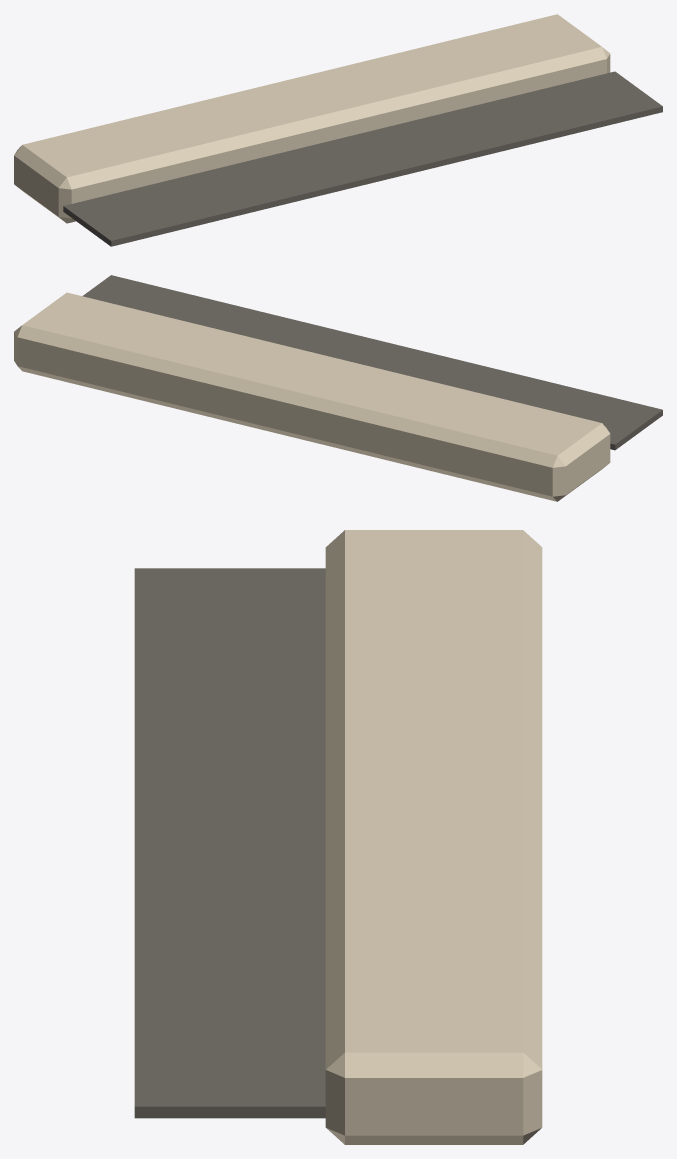
Rendered from street_kerb.glb.
3 renders of one model, top to bottom at view 1: azimuth 30°, elevation 25°; view 2: azimuth 150°, elevation 25°; view 3: azimuth 270°, elevation 25°, orthographic. The views are drawn at different scales.
Visible parts, largest first — view 1: kerb; view 2: kerb; view 3: kerb.
Boxes of the visible parts, box(x1,y1,x2,y2) form: kerb: box(14, 14, 662, 246); kerb: box(14, 275, 662, 501); kerb: box(134, 530, 542, 1144).
Bounding box in the file's own units: 2 × 0.16 × 0.64.
